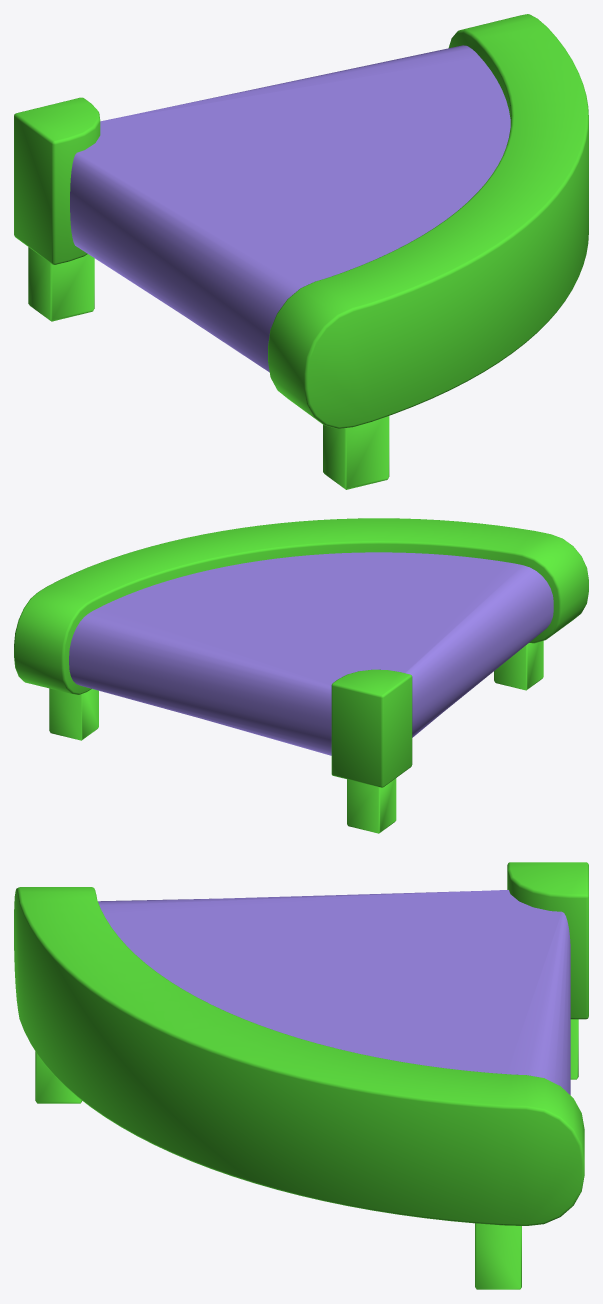
File: TasmociagZakret2.fbx
The picture shows the model from 3 angles, top to bottom: view 1: azimuth 30°, elevation 25°; view 2: azimuth 150°, elevation 25°; view 3: azimuth 270°, elevation 25°; orthographic projection. The views are drawn at different scales.
Parts seen in each view (by area): view 1: Cube.004; view 2: Cube.004; view 3: Cube.004.
Part boxes in pixels (<box>): Cube.004: <box>14,14,588,489</box>; Cube.004: <box>14,518,588,833</box>; Cube.004: <box>14,862,588,1289</box>.
Size of the model in its own units: 92.31 by 33.91 by 91.58.
